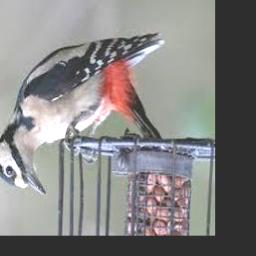Woodpecker: (0, 32, 164, 195)
